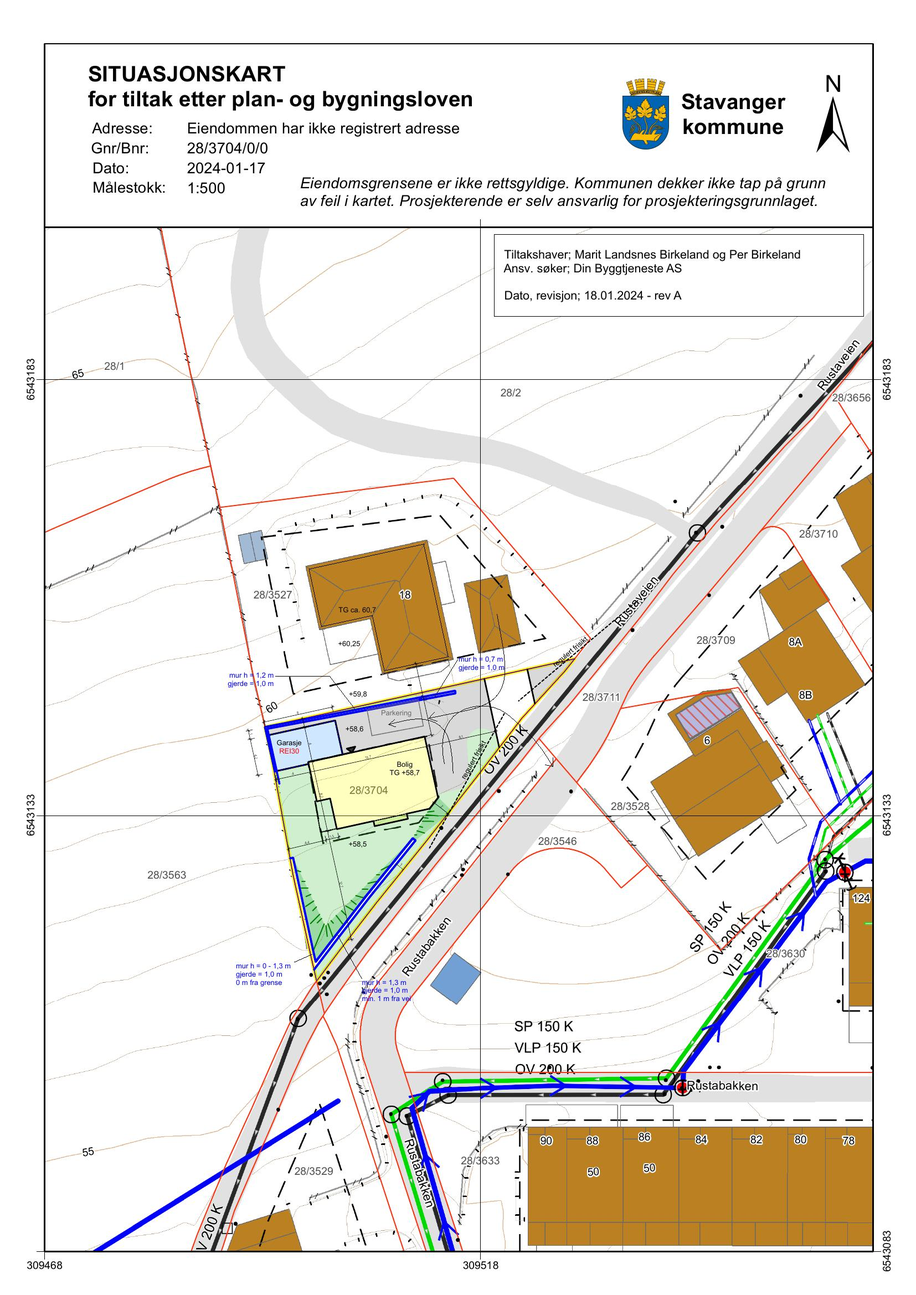situasjonskart: (47, 318, 871, 1247)
